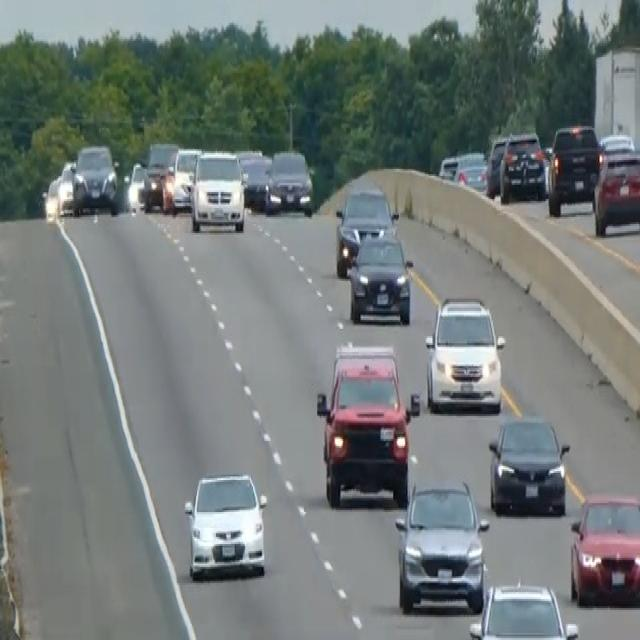car: (394, 476, 489, 614), (183, 469, 268, 582), (487, 412, 570, 516), (569, 489, 639, 606), (468, 580, 579, 638), (347, 230, 413, 326), (334, 185, 397, 275), (547, 121, 600, 215), (592, 146, 639, 236), (499, 130, 547, 202), (264, 147, 313, 217), (73, 142, 118, 214), (141, 140, 178, 212), (164, 146, 201, 213), (242, 153, 271, 210), (454, 151, 489, 194), (485, 134, 509, 196), (57, 158, 83, 215), (124, 158, 147, 212), (597, 130, 635, 160), (41, 174, 62, 222), (438, 151, 459, 181)
jeep: (314, 340, 420, 508)
minivan: (423, 290, 507, 414), (188, 146, 246, 234)
